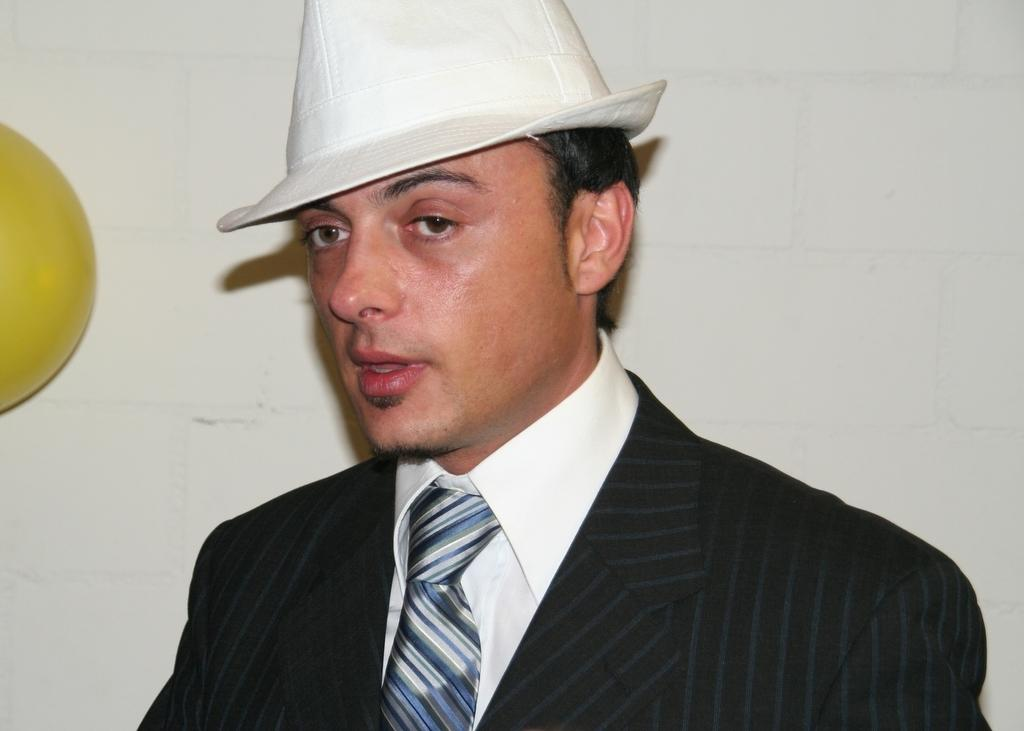Hat: (218, 0, 670, 230)
